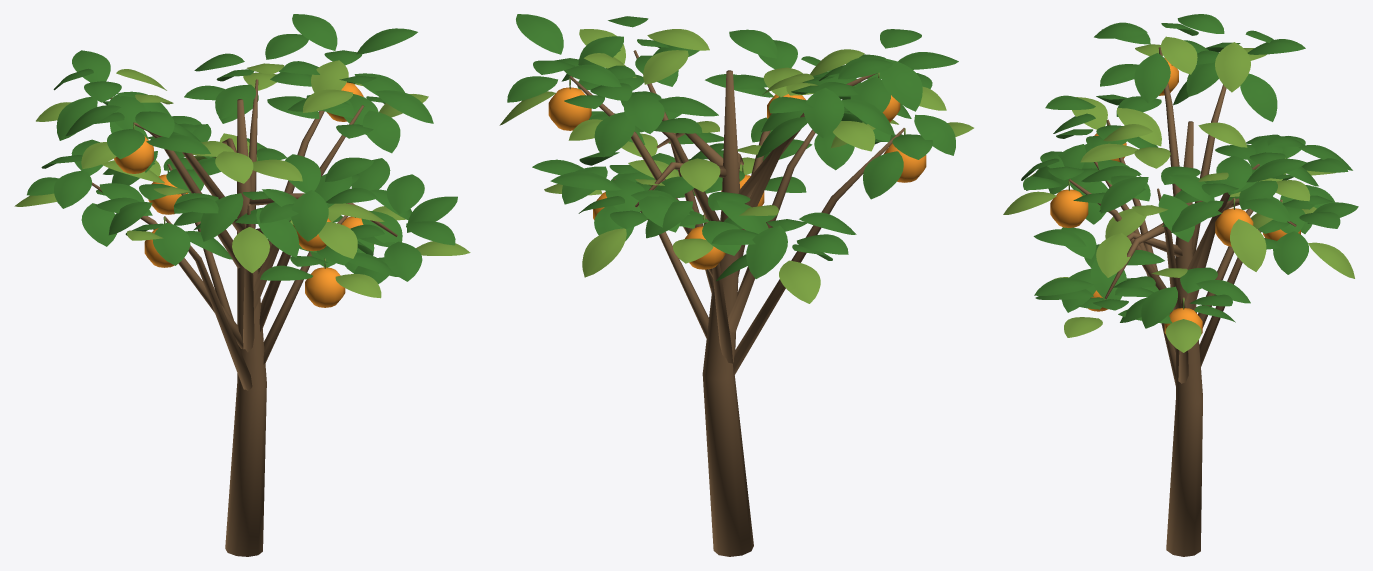
Rendered from citrus.glb.
3 renders of one model, left to right at view 1: azimuth 30°, elevation 25°; view 2: azimuth 150°, elevation 25°; view 3: azimuth 270°, elevation 25°, orthographic. The views are drawn at different scales.
Parts seen in each view (by area): view 1: Citrus_Oval_Glossy_Leaves, Citrus_Woody_Trunk_And_Branches, Citrus_Young_Green_Leaves, Citrus_Orange_Fruit; view 2: Citrus_Oval_Glossy_Leaves, Citrus_Woody_Trunk_And_Branches, Citrus_Young_Green_Leaves, Citrus_Orange_Fruit; view 3: Citrus_Oval_Glossy_Leaves, Citrus_Young_Green_Leaves, Citrus_Woody_Trunk_And_Branches, Citrus_Orange_Fruit.
Part boxes in pixels (x1,y1,x2,y2): Citrus_Oval_Glossy_Leaves: (27,14,457,283); Citrus_Woody_Trunk_And_Branches: (92,79,397,556); Citrus_Young_Green_Leaves: (14,60,470,298); Citrus_Orange_Fruit: (114,82,373,307); Citrus_Oval_Glossy_Leaves: (507,14,958,281); Citrus_Woody_Trunk_And_Branches: (569,50,905,556); Citrus_Young_Green_Leaves: (499,29,973,303); Citrus_Orange_Fruit: (548,87,926,269); Citrus_Oval_Glossy_Leaves: (1021,14,1358,328); Citrus_Young_Green_Leaves: (1003,36,1354,352); Citrus_Woody_Trunk_And_Branches: (1069,47,1296,556); Citrus_Orange_Fruit: (1050,58,1300,334).
Size of the model in its own units: 1.18 by 1.5 by 1.03.
